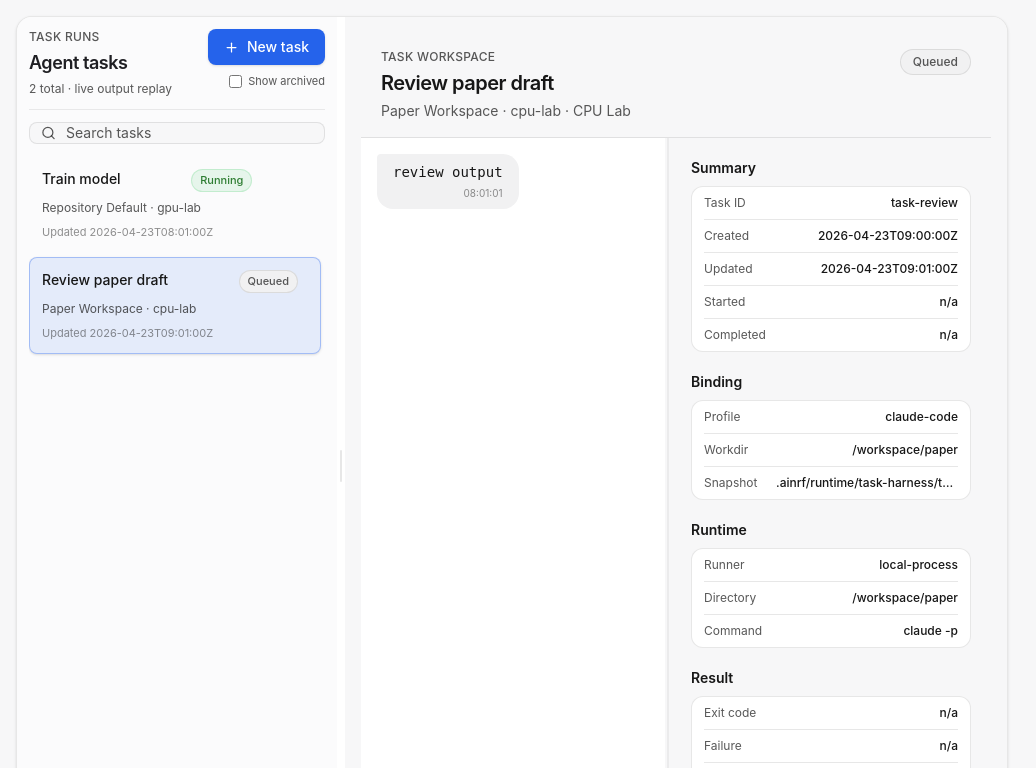
Test: TasksPage › selects a task from the task query param and keeps selection in the URL
This screenshot has width=1036, height=768.
Check: the heading "Review paper draft" is shown, box x1=381 y1=71 x2=554 y2=95
Check: the text "/workspace/paper" next to "Workdir" is shown, box x1=852 y1=442 x2=958 y2=457
Click the button "Train model" at (175, 204), box x1=29 y1=156 x2=321 y2=253
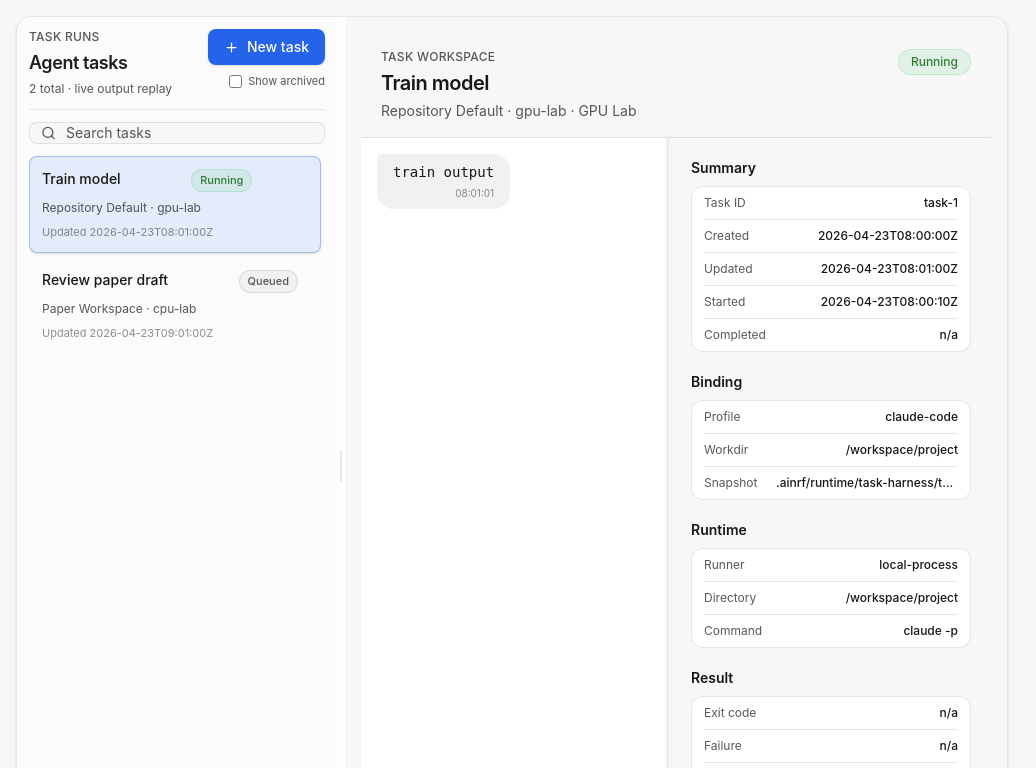
Check: the heading "Train model" is shown, box x1=381 y1=71 x2=489 y2=95
